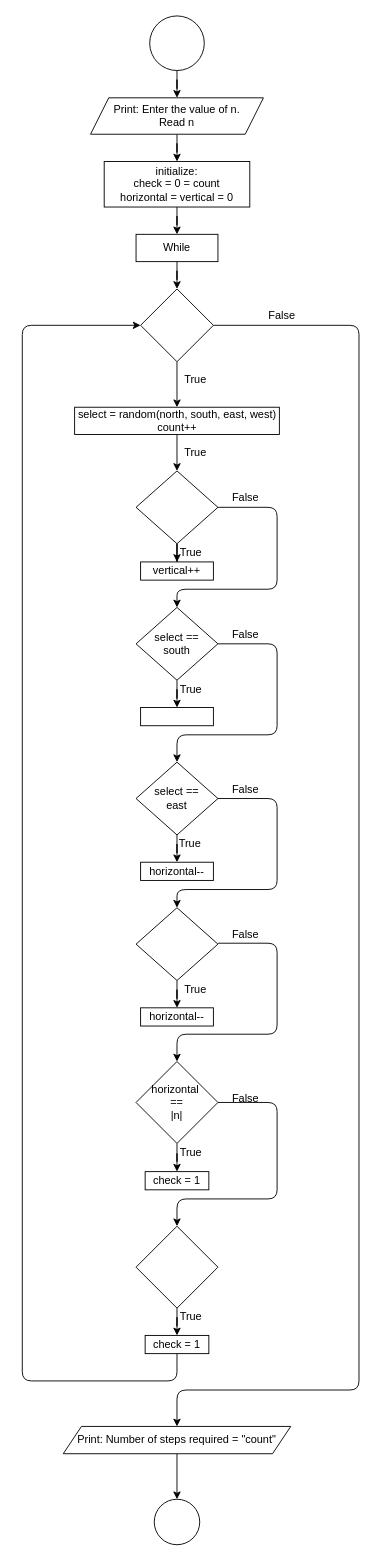
Image size: 382x1561. Some labels were removed from this diagram. The shapes that lost their labels are listed below. From the top down, each one's box as (x1, y1, x2, y2) in pixels, then its label:
(149, 15, 204, 71): Start
(140, 288, 213, 362): check == 0
(135, 470, 218, 544): select == north
(140, 707, 213, 726): vertical--
(135, 907, 218, 981): select == west
(135, 1225, 218, 1308): vertical == |n|
(153, 1498, 200, 1545): Stop
